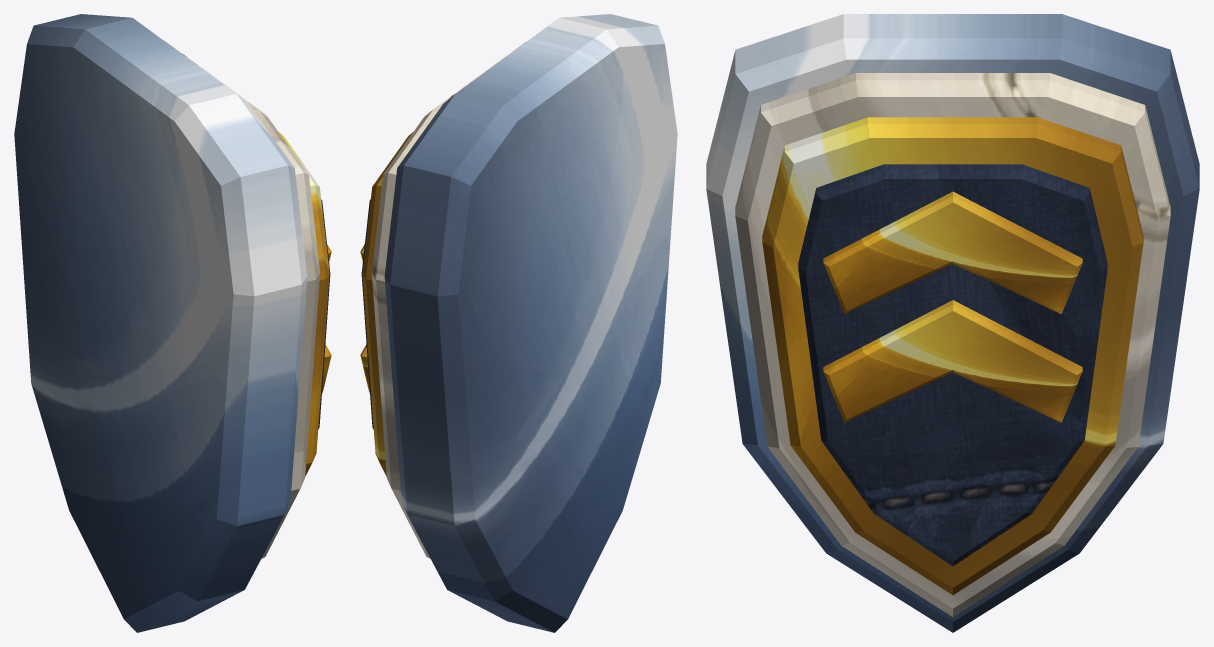
The model's file is guardian.glb.
The picture shows the model from 3 angles, left to right: view 1: azimuth 30°, elevation 25°; view 2: azimuth 150°, elevation 25°; view 3: azimuth 270°, elevation 25°; orthographic projection. The views are drawn at different scales.
Parts seen in each view (by area): view 1: arm_L; view 2: arm_L; view 3: arm_L.
Boxes of the visible parts, left/top/right/bottom form: arm_L: left=14, top=14, right=331, bottom=632; arm_L: left=360, top=14, right=677, bottom=632; arm_L: left=706, top=14, right=1199, bottom=632.
Bounding box in the file's own units: 0.2035 × 0.7399 × 0.5565.
Materials: 4 (4 with a texture image).
